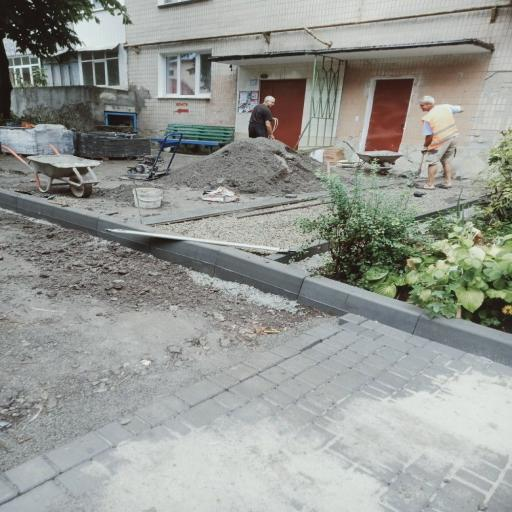child: (365, 78, 414, 152), (260, 79, 306, 148)
crosswalk: (420, 96, 464, 190), (248, 96, 275, 139)
trash_bin: (148, 123, 235, 153)
